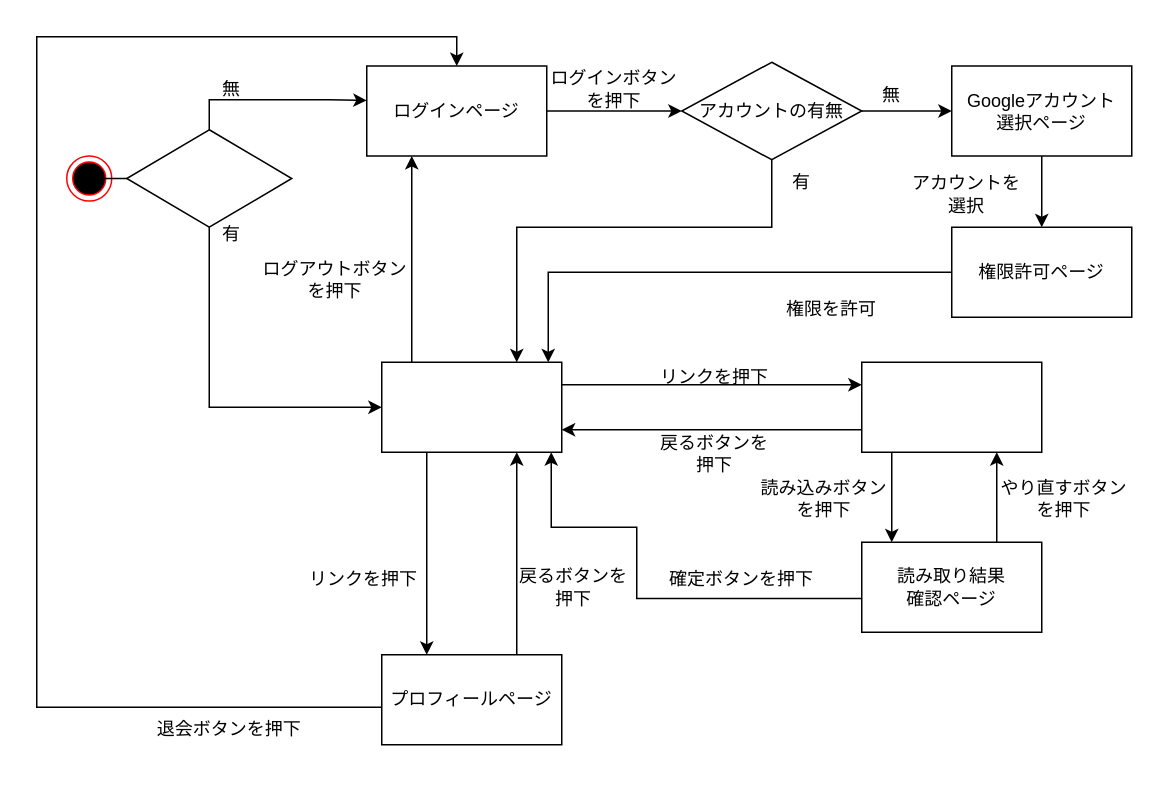
The diagram is 1158 pixels wide and 794 high, and some of its shapes have lost their labels. The shapes that lost their labels are listed below. From the top down, each one's box as (x1, y1, x2, y2) in pixels, then its label:
(125, 128, 292, 227): セッションの有無
(380, 361, 562, 452): 在庫表示ページ
(860, 361, 1042, 452): 納品書読み込み ページ
